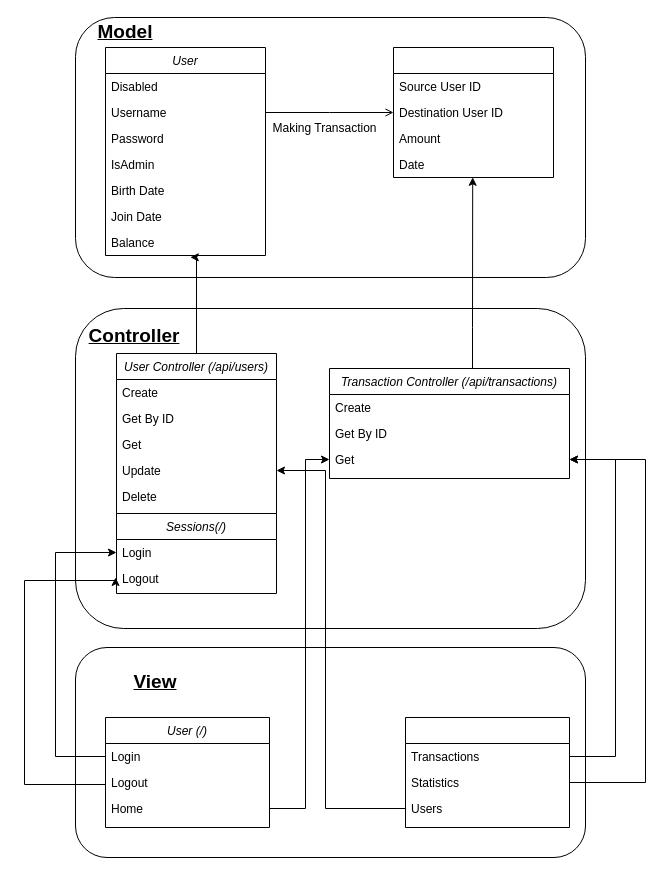
Image size: 671x875. Some labels were removed from this diagram. Here are the shapes that lost their labels. From the top down, the box of each, then its label:
(392, 46, 554, 178): Transaction
(404, 716, 570, 828): Admin (/admin/)
